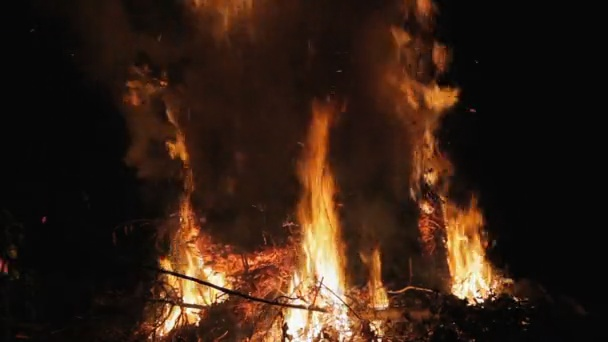fire: (283, 108, 353, 342), (158, 214, 235, 333), (444, 203, 497, 302), (362, 252, 387, 308), (368, 318, 386, 342)
